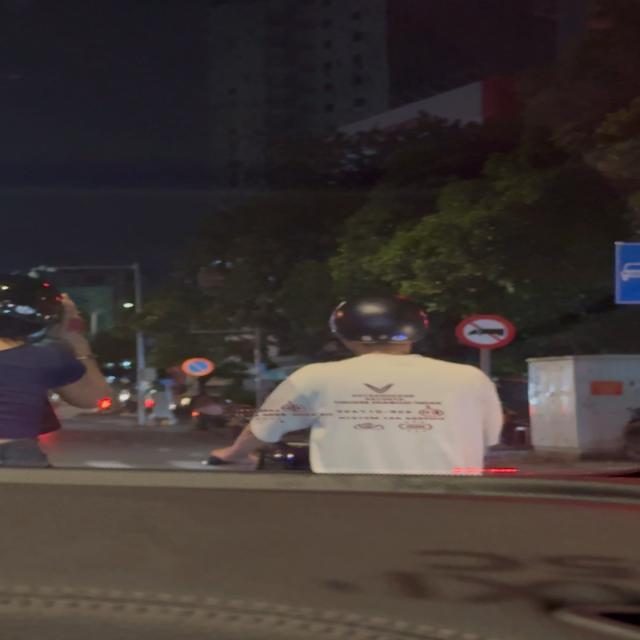Bien bao cam xe so-mi ro-mooc: (453, 314, 521, 350)
